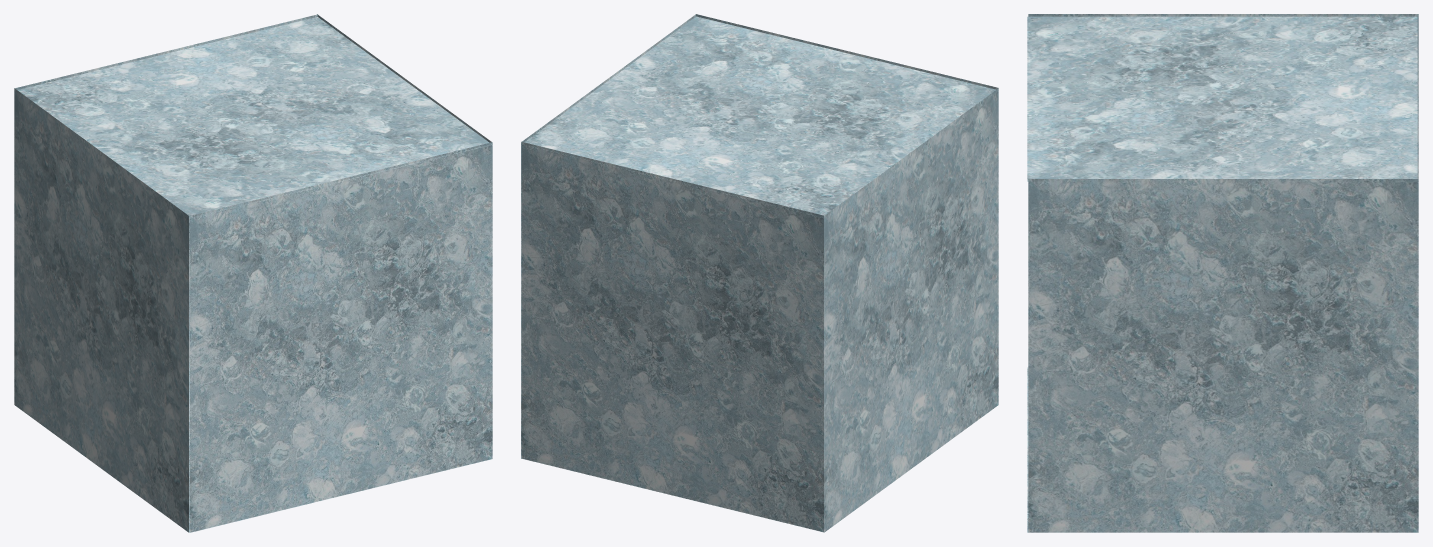
File: Freeze_BoxTexure.fbx
3 views of the same model, side by side, from view 1: azimuth 30°, elevation 25°; view 2: azimuth 150°, elevation 25°; view 3: azimuth 270°, elevation 25° (orthographic). The views are drawn at different scales.
Parts seen in each view (by area): view 1: frozen_box; view 2: frozen_box; view 3: frozen_box.
Part boxes in pixels (x1,y1,x2,y2): frozen_box: (14, 14, 492, 532); frozen_box: (521, 14, 998, 532); frozen_box: (1027, 14, 1418, 532).
Size of the model in its own units: 1 by 1 by 1.
Materials: 1 (1 with a texture image).
